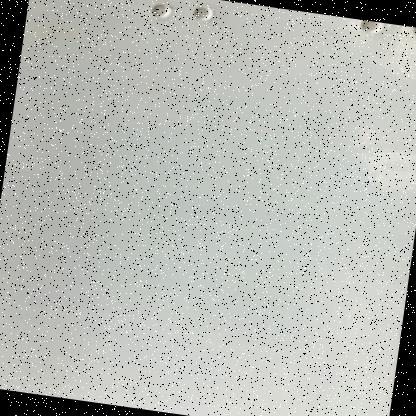Nocrack: (9, 0, 411, 411)
